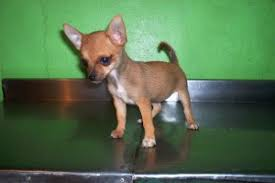chihuahua: (44, 10, 220, 154)
